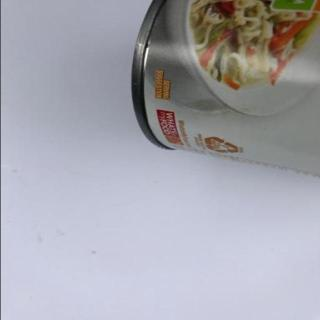Anorganik: (128, 0, 320, 170)
